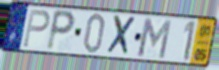0: (82, 12, 106, 55)
1: (182, 19, 197, 63)
M: (136, 16, 173, 60)
P: (44, 8, 77, 53), (21, 8, 51, 50)
X: (105, 14, 137, 57)
